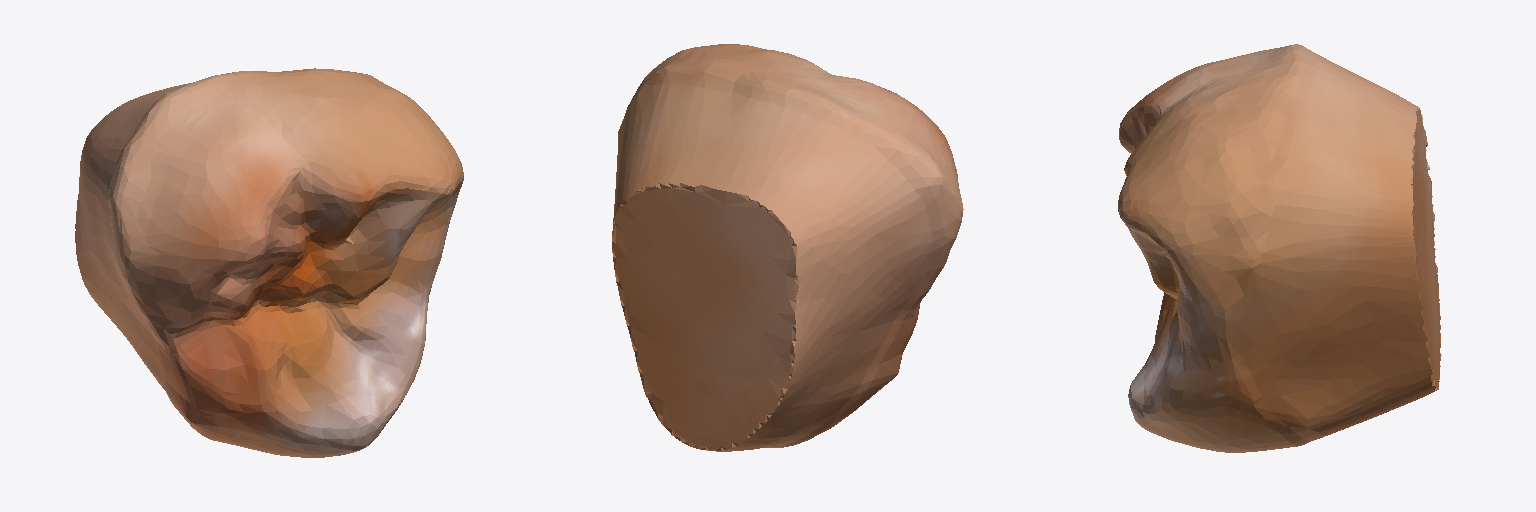
3 renders of one model, left to right at view 1: azimuth 30°, elevation 25°; view 2: azimuth 150°, elevation 25°; view 3: azimuth 270°, elevation 25°, orthographic.
Bounding box in the file's own units: 10.26 × 10.91 × 8.84.
Materials: 1 (1 with a texture image).